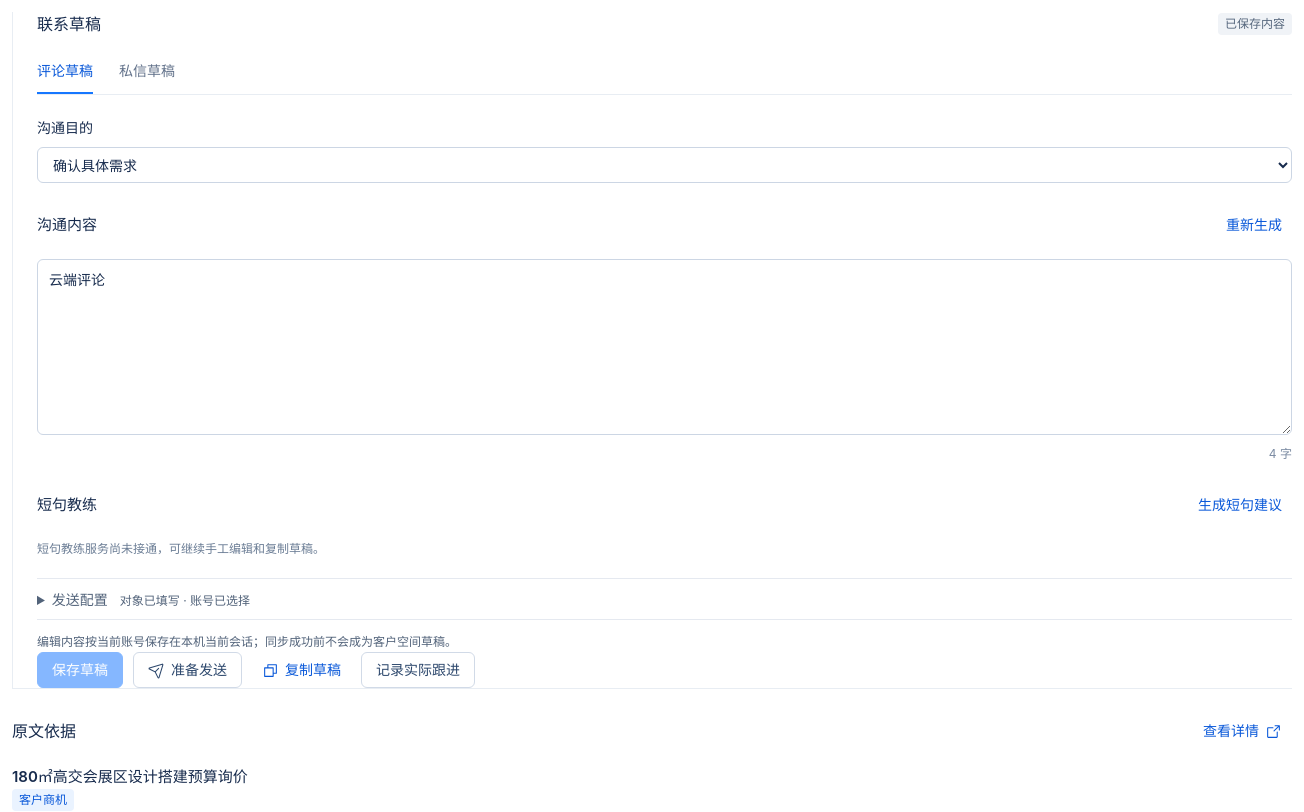
Test: ordinary client contact draft persistence › restores each channel including routing and advances its own predecessor
Check: the element named "收件对象" holds "recipient-a", box [37,578,1292,620]
Step 1. Replace the text in the text box named "沟通内容" with "评论新修改" → (664, 347), box [37,259,1292,435]
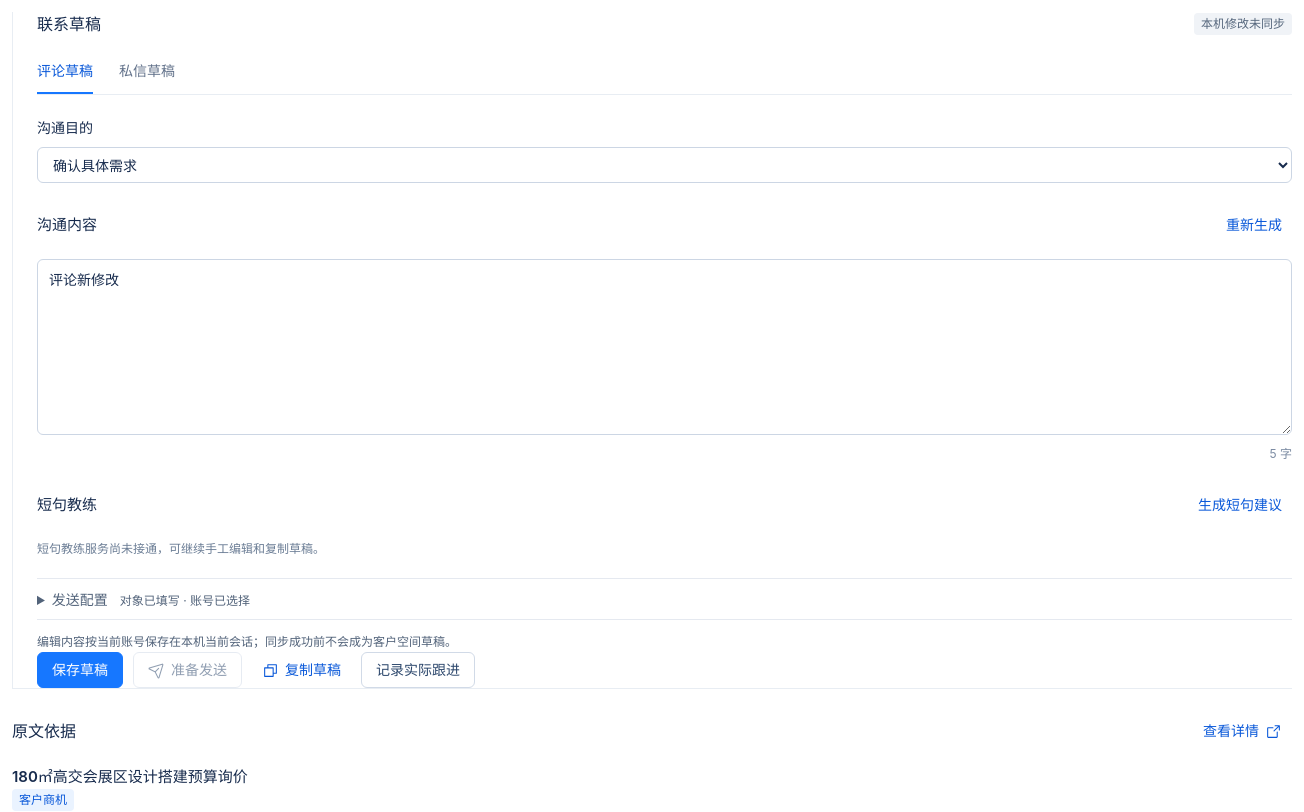
Step 2. Click the button "保存草稿" → (80, 670), box [37,652,123,688]
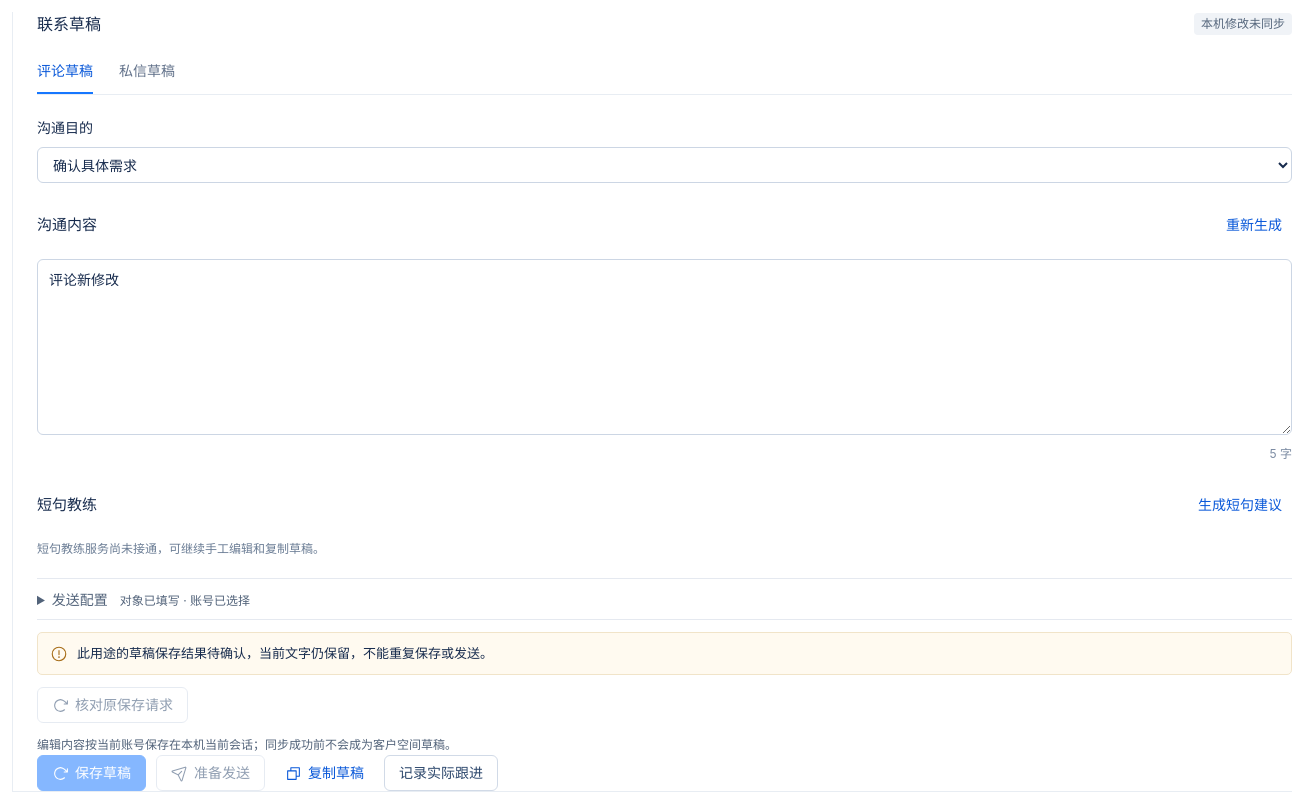
Step 3. Click the tab "私信草稿" → (147, 73), box [119,52,175,94]
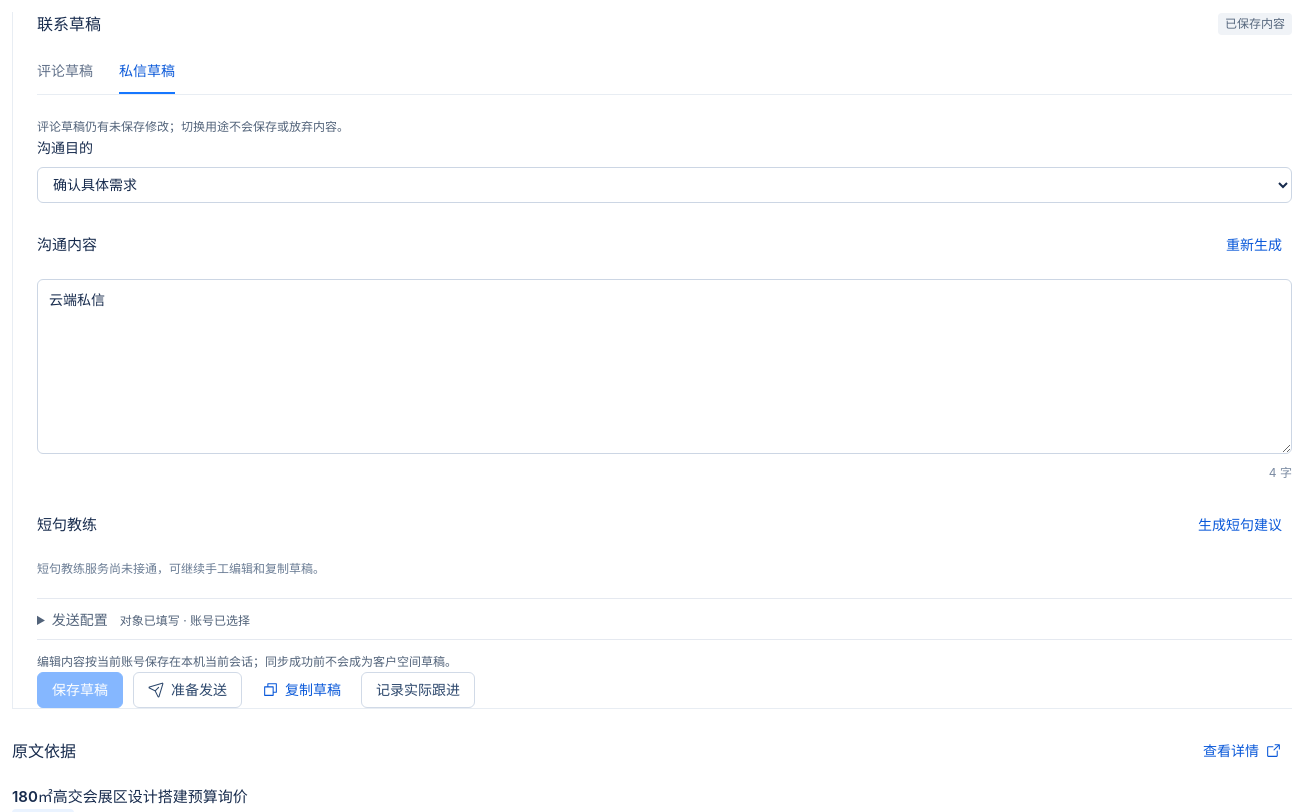
Check: the text box named "沟通内容" holds "云端私信", box [37,279,1292,454]
